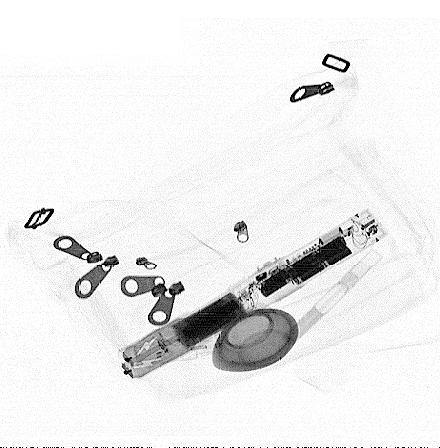Baton: (120, 209, 387, 379)
